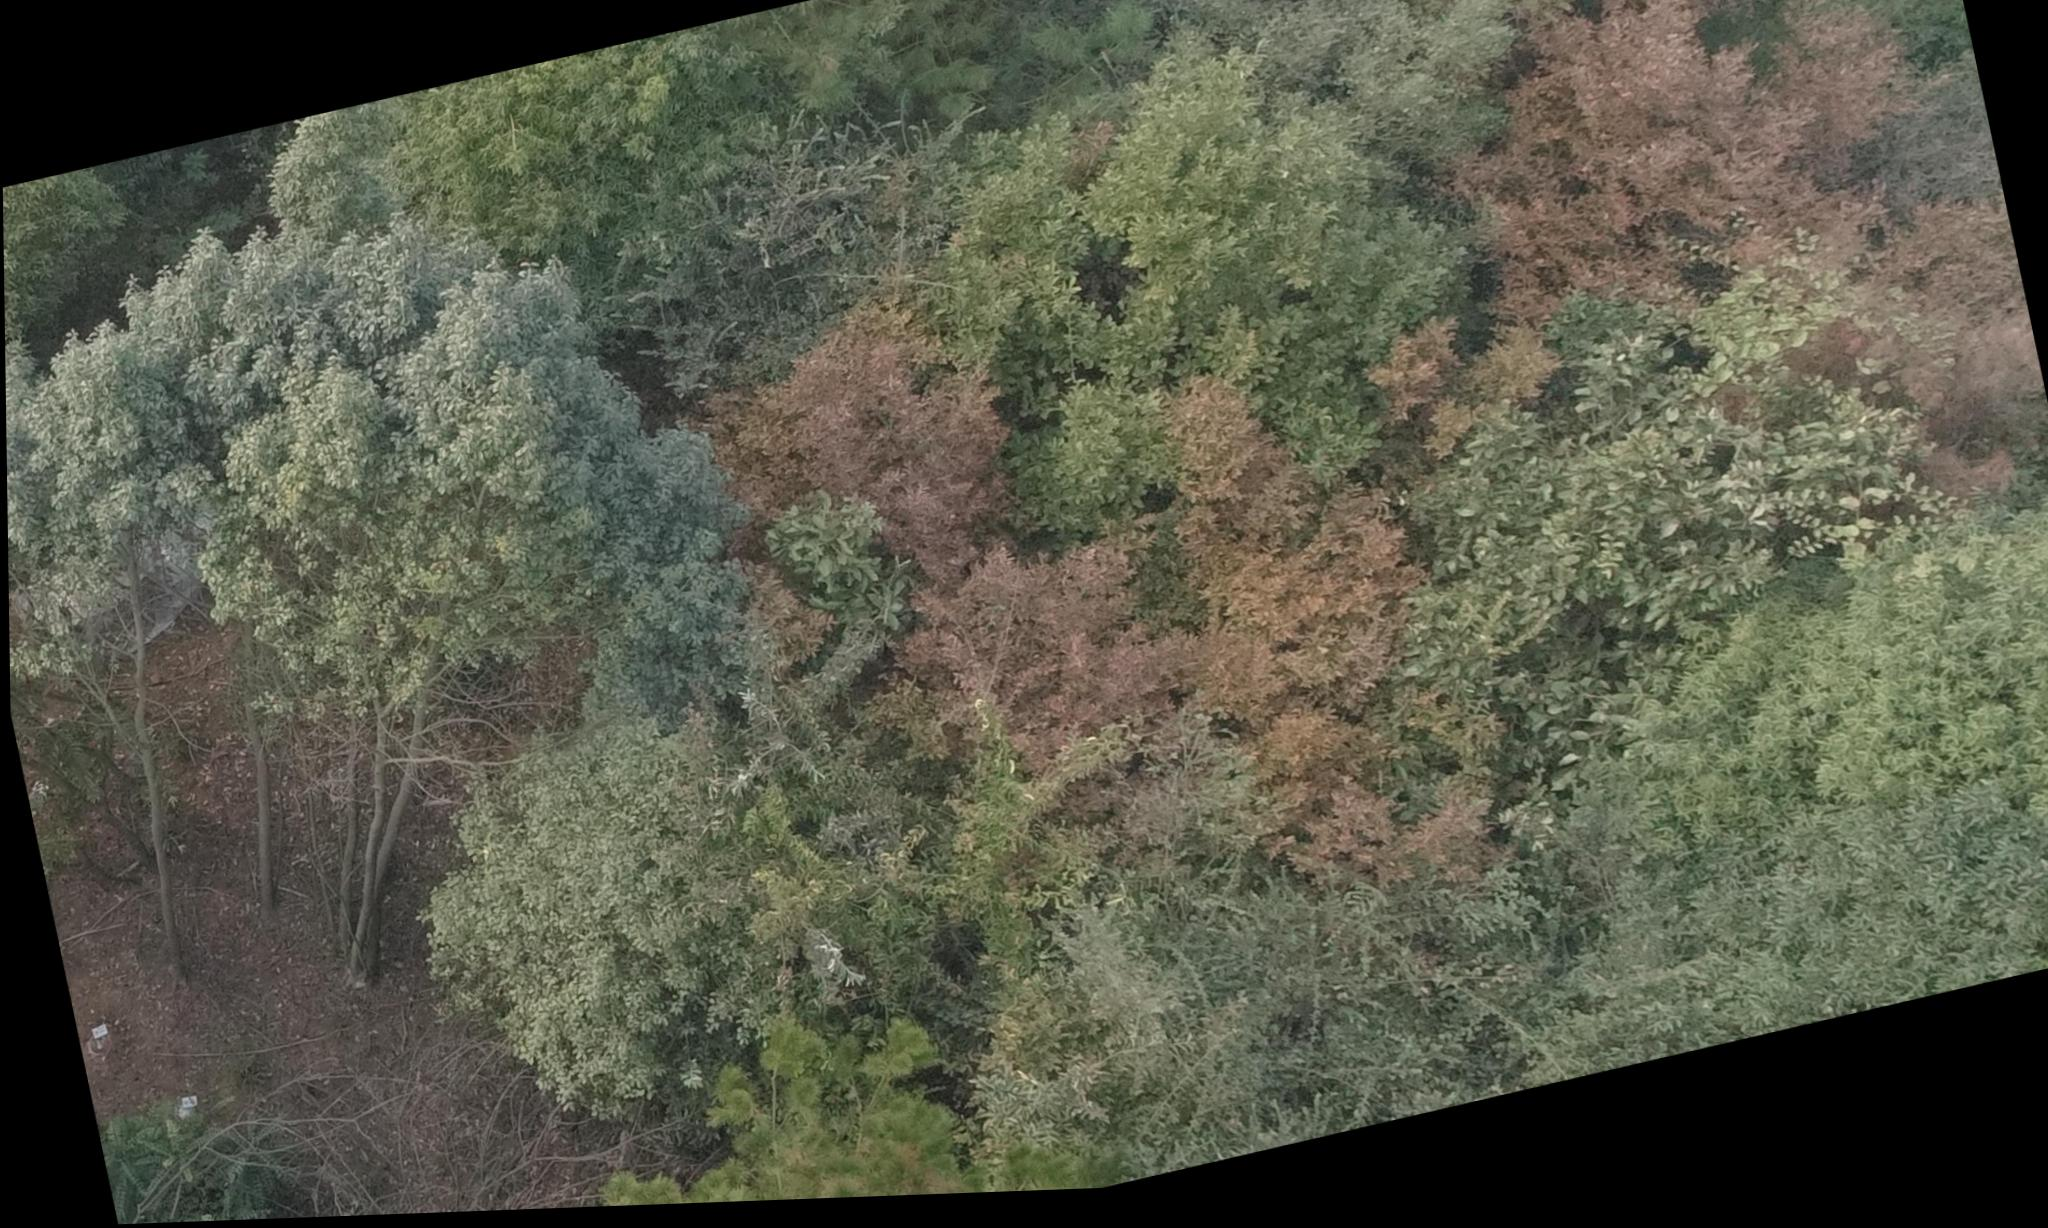heavy: (608, 199, 1494, 1035), (1370, 0, 2048, 610)
